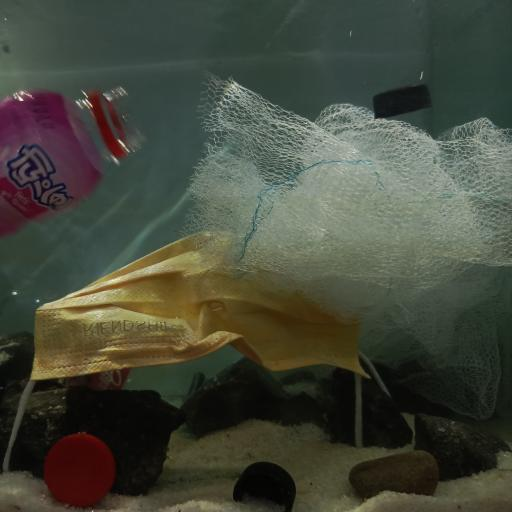bottle_cap: (43, 434, 115, 507), (233, 460, 297, 510), (372, 85, 430, 116)
mask: (13, 227, 385, 409)
net: (181, 64, 512, 422)
plastic_bottle: (8, 271, 206, 399), (0, 83, 145, 241)
